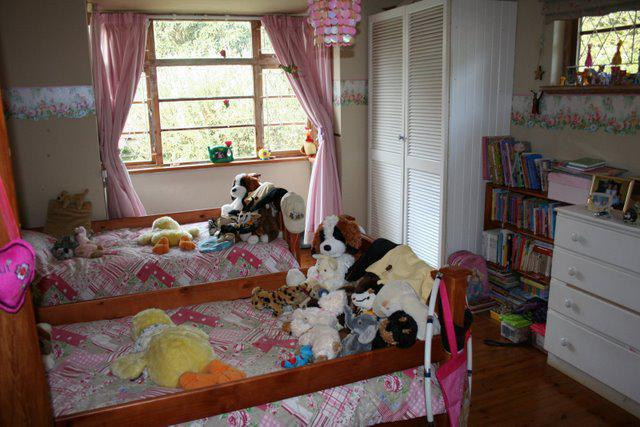Armario: (372, 14, 480, 254)
Cama: (3, 229, 477, 424), (21, 213, 305, 274)
Ventana: (90, 15, 329, 156)
